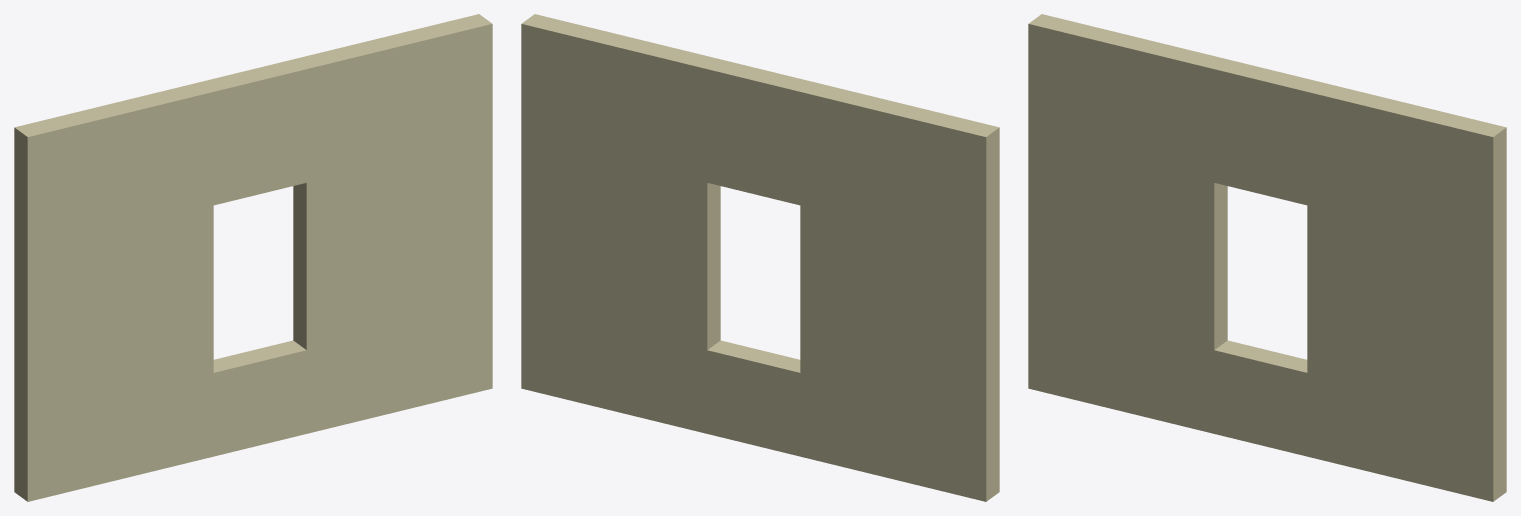
File: Wall_Window_400x300.FBX
3 views of the same model, side by side, from view 1: azimuth 30°, elevation 25°; view 2: azimuth 150°, elevation 25°; view 3: azimuth 330°, elevation 25° (orthographic).
Visible parts, largest first — view 1: Wall_Window_400x300; view 2: Wall_Window_400x300; view 3: Wall_Window_400x300.
Boxes of the visible parts, bbox=[...] form: Wall_Window_400x300: bbox=[14, 14, 492, 501]; Wall_Window_400x300: bbox=[521, 14, 999, 501]; Wall_Window_400x300: bbox=[1028, 14, 1506, 501].
Size of the model in its own units: 400 by 20 by 300.
